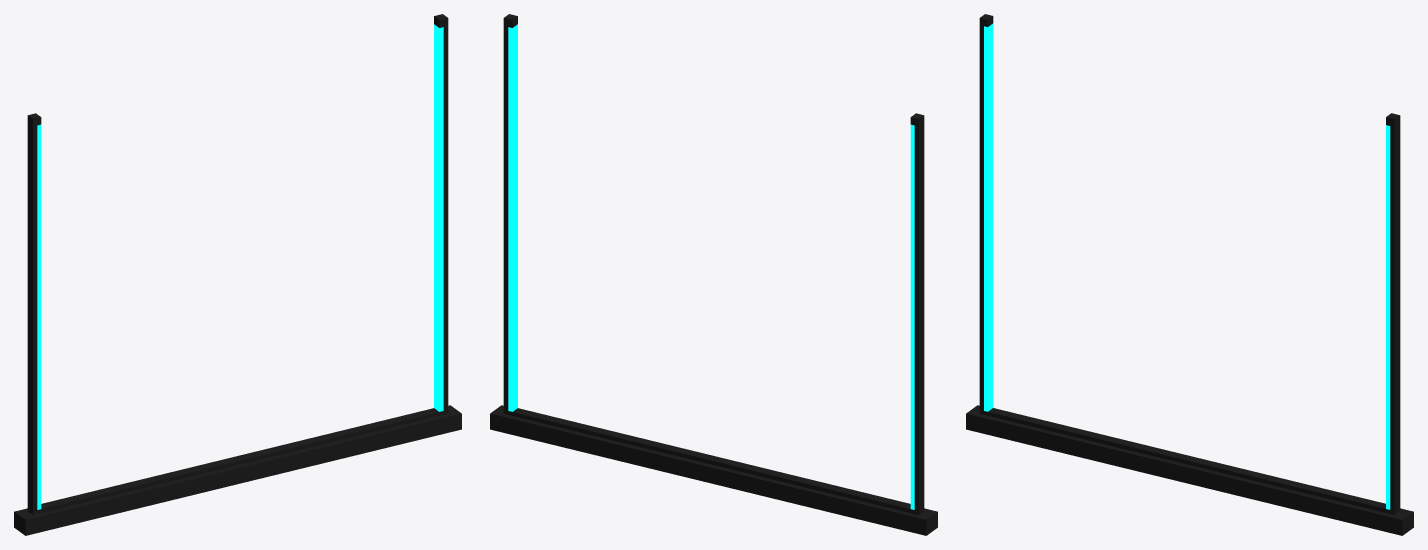
File: glass_border.glb
3 views of the same model, side by side, from view 1: azimuth 30°, elevation 25°; view 2: azimuth 150°, elevation 25°; view 3: azimuth 330°, elevation 25° (orthographic).
Visible parts, largest first — view 1: Cube.003, Cube.002; view 2: Cube.003, Cube.002; view 3: Cube.003, Cube.002.
Boxes of the visible parts, x1,y1,x2,y2 form: Cube.003: (14, 405, 461, 535); Cube.002: (27, 14, 448, 510); Cube.003: (490, 405, 937, 535); Cube.002: (503, 14, 924, 510); Cube.003: (966, 405, 1413, 535); Cube.002: (979, 14, 1400, 510).
Bounding box in the file's own units: 10.51 × 9.48 × 0.4757.
